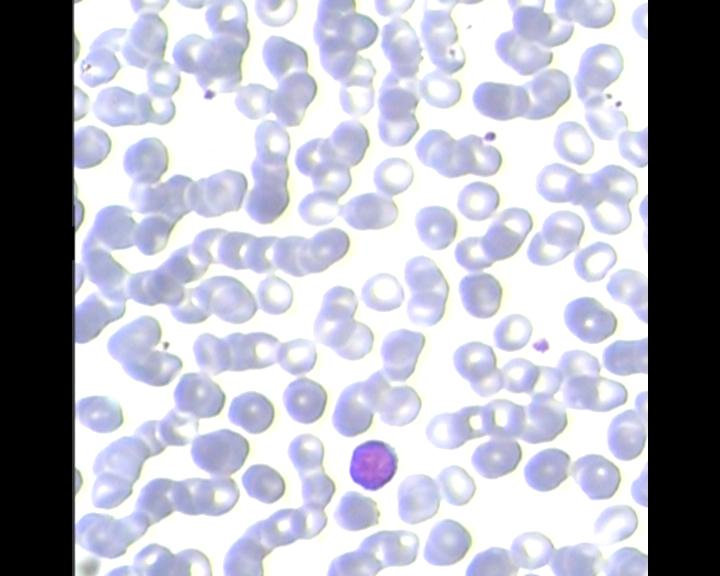lymp: (345, 435, 402, 491)
